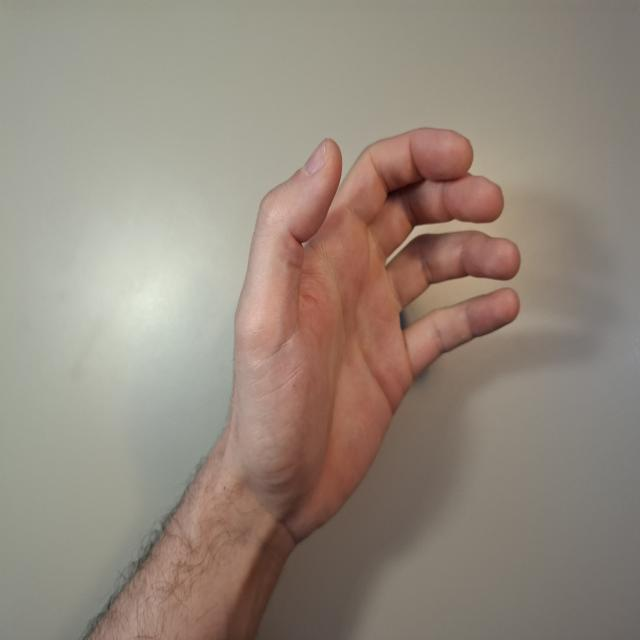glove_off: (228, 122, 524, 551)
